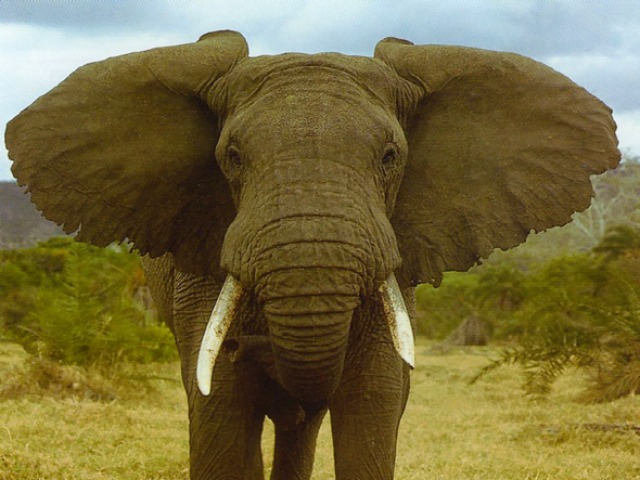elephant: (3, 20, 623, 479)
